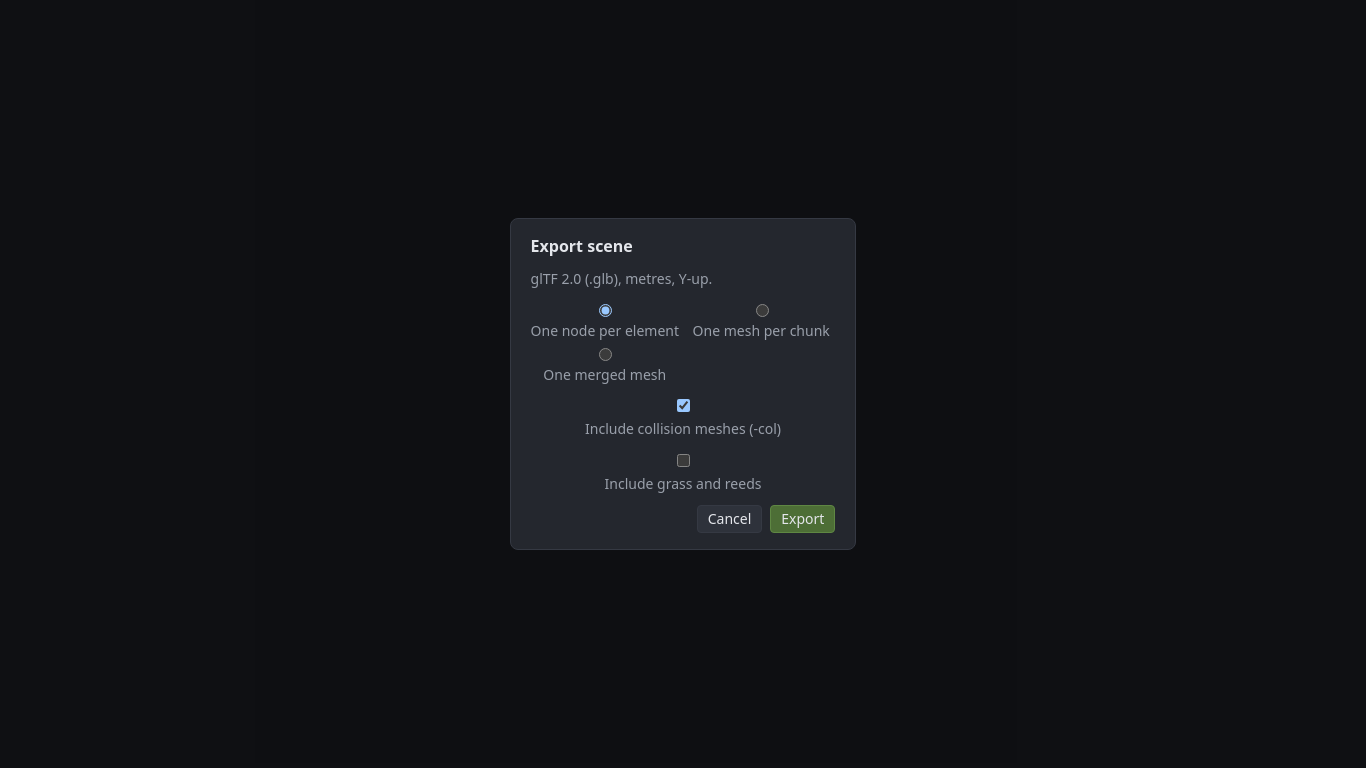
Scenario: ExportDialog › shows Exporting… and disables its buttons while exporting
What coordinates should you click on to do the following:
click the button "Export"
I would click on:
 (803, 519)
Its box is [770,505,835,533].
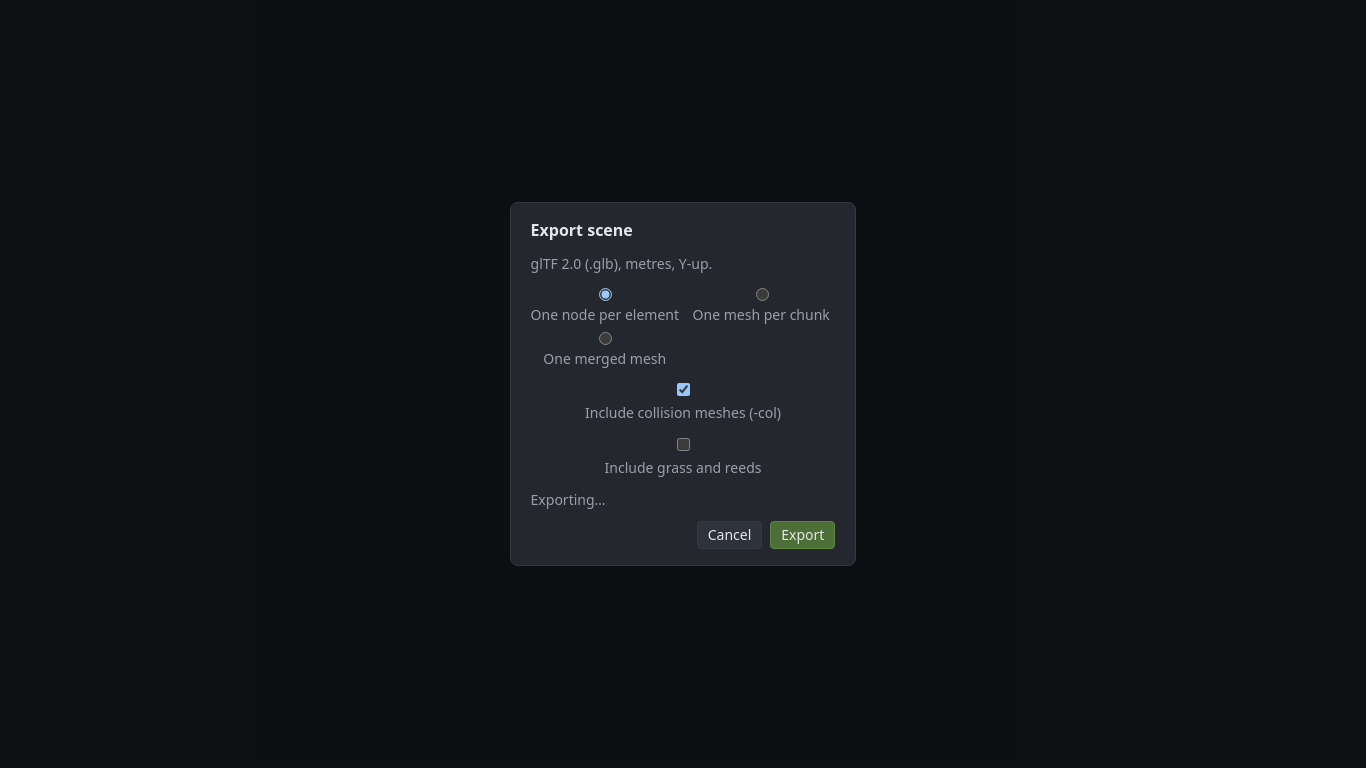
Check: the text "Exporting…" is shown, box [531,490,606,509]
Check: the button "Cancel" is disabled, box [697,521,762,549]
